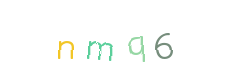6: (98, 0, 178, 80)
M: (79, 0, 159, 80)
N: (25, 0, 105, 80)
Q: (92, 0, 172, 80)
